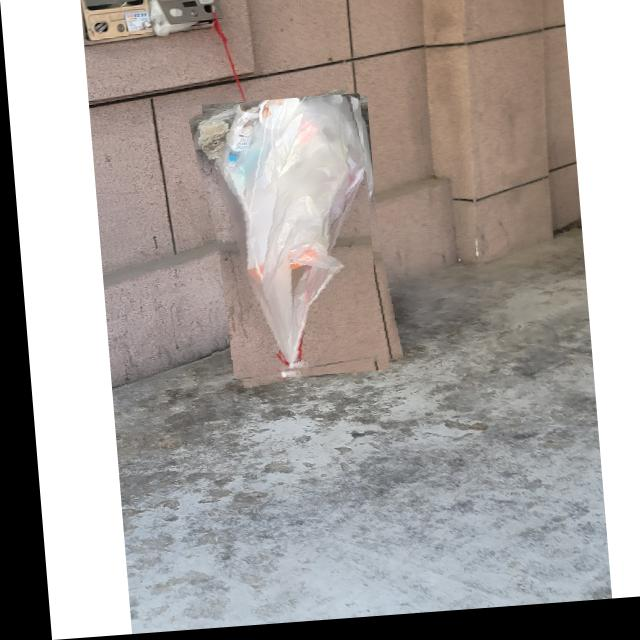other_trashbag: (193, 101, 362, 377)
